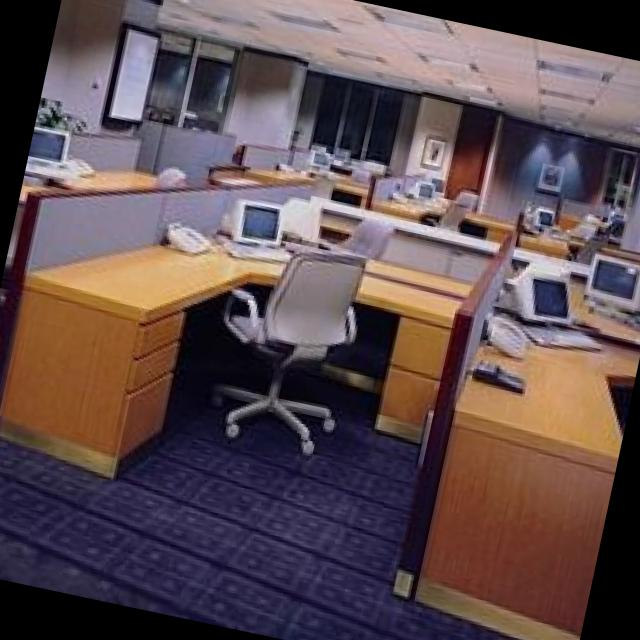2001: (314, 73, 410, 162), (603, 145, 640, 205)
adding machine: (474, 355, 530, 390)
ceiling beam: (168, 0, 640, 143)
chair: (340, 213, 399, 255), (442, 185, 485, 230), (574, 206, 605, 235), (155, 164, 190, 182)
chair -occluded-: (211, 252, 369, 455)
desk calendar: (420, 267, 640, 640), (377, 193, 517, 241), (249, 163, 372, 205), (520, 228, 640, 257)
desks: (0, 233, 480, 478)
file organizer: (321, 197, 591, 276), (72, 128, 144, 166)
keyboard crop: (533, 327, 608, 348), (229, 242, 298, 256)
monitor crop: (500, 261, 576, 318), (591, 252, 640, 309), (225, 197, 286, 240), (283, 195, 323, 235), (31, 122, 72, 159), (535, 201, 561, 224), (412, 178, 439, 196), (315, 145, 338, 164)
painting crop: (540, 164, 567, 190)
phone charger: (489, 313, 535, 356), (170, 223, 217, 251), (76, 152, 98, 173)
picture occluded: (425, 134, 451, 168)
pillar: (228, 45, 306, 146)
plant -x: (42, 95, 93, 130)
poster crop: (109, 22, 162, 119)
